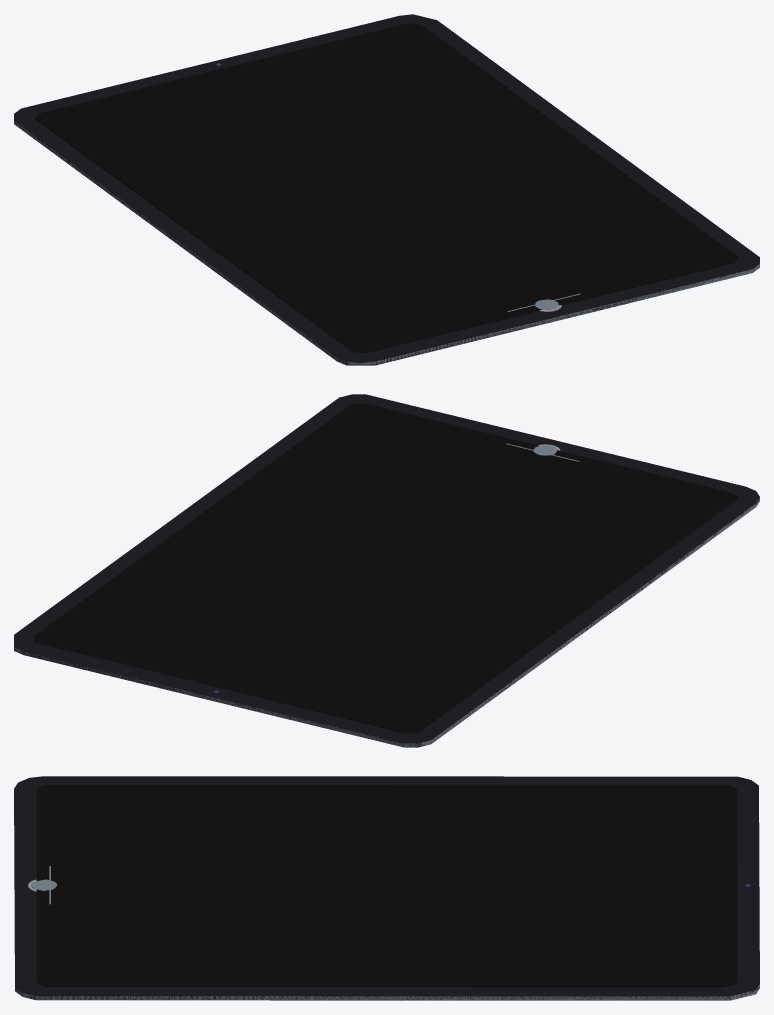
The model's file is tablet_variantes.glb.
3 views of the same model, one above another, from view 1: azimuth 30°, elevation 25°; view 2: azimuth 150°, elevation 25°; view 3: azimuth 270°, elevation 25° (orthographic). The views are drawn at different scales.
Visible parts, largest first — view 1: pantalla_tablet_dato@sin_boton, pantalla_tablet_dato@con_boton; view 2: pantalla_tablet_dato@sin_boton, pantalla_tablet_dato@con_boton; view 3: pantalla_tablet_dato@sin_boton, pantalla_tablet_dato@con_boton.
Part boxes in pixels (bbox=[...]): pantalla_tablet_dato@sin_boton: bbox=[14, 14, 759, 365]; pantalla_tablet_dato@con_boton: bbox=[14, 65, 759, 365]; pantalla_tablet_dato@sin_boton: bbox=[14, 394, 759, 747]; pantalla_tablet_dato@con_boton: bbox=[14, 444, 759, 747]; pantalla_tablet_dato@sin_boton: bbox=[14, 776, 759, 1000]; pantalla_tablet_dato@con_boton: bbox=[14, 823, 759, 1000].
Size of the model in its own units: 17.3 by 0.215 by 24.8.
